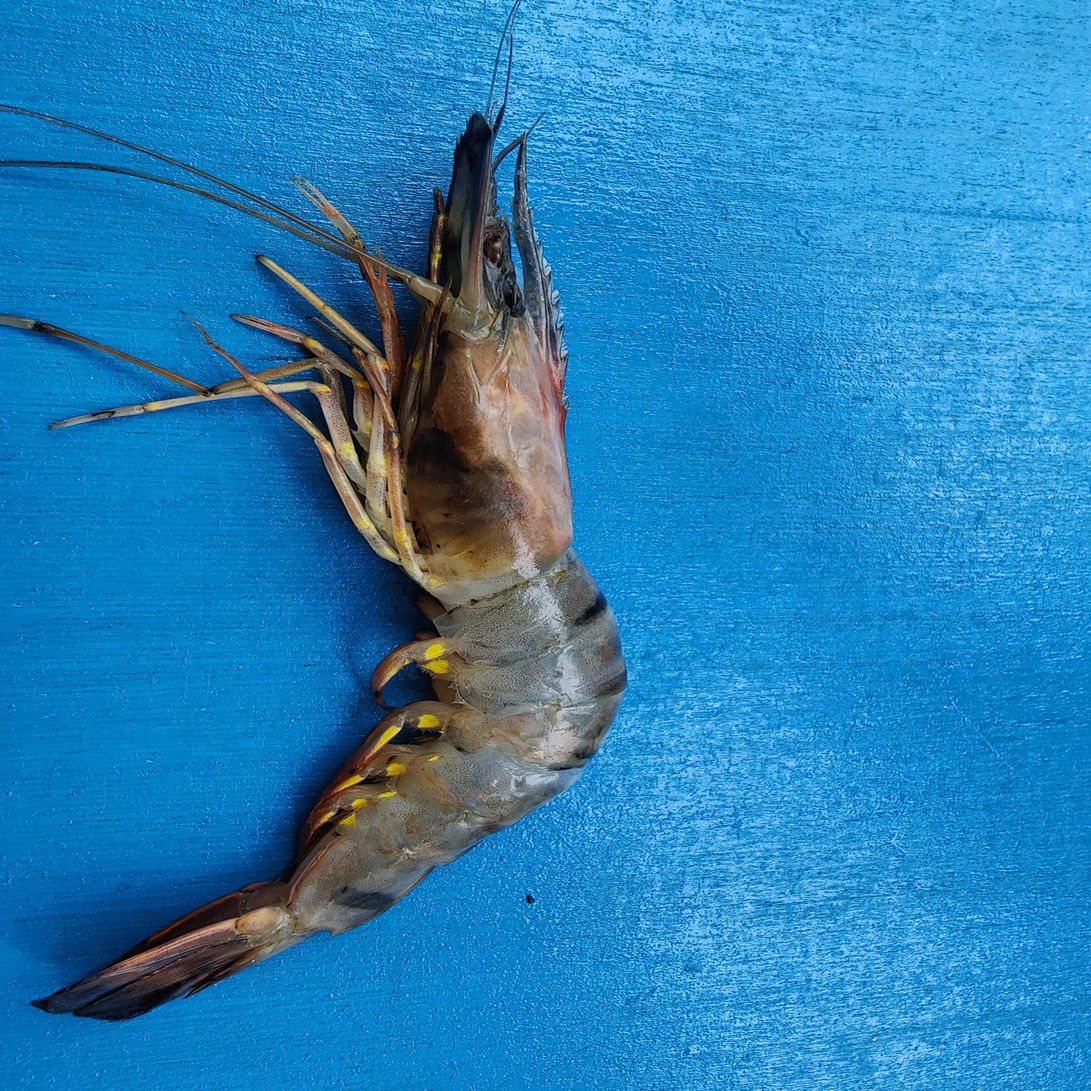blackgill: (393, 396, 521, 571)
